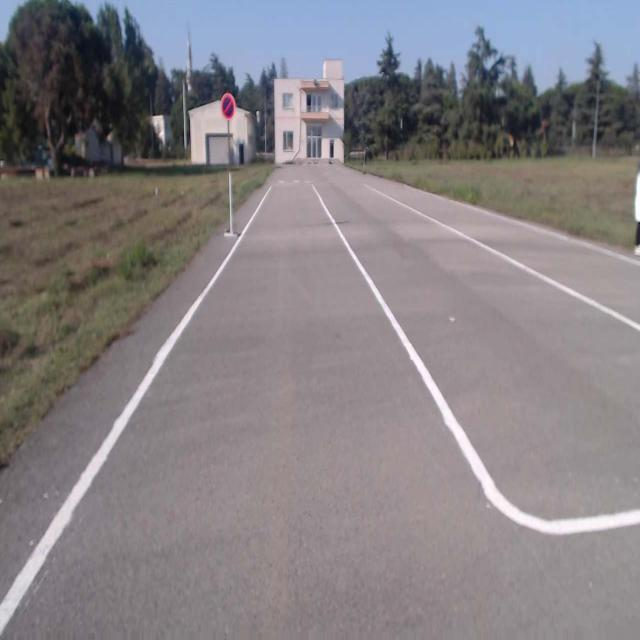parkyasak: (221, 92, 235, 120)
